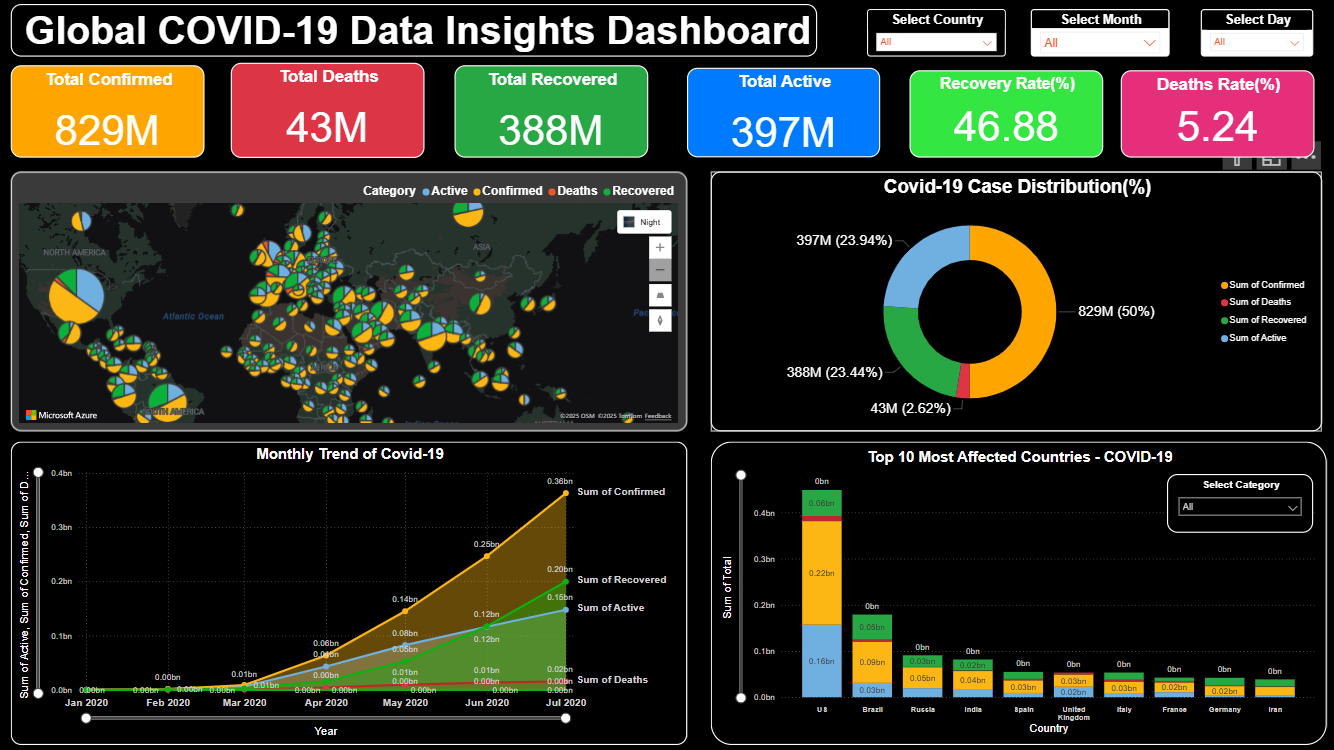

The page's visual inventory and layout, read from the dashboard file:
{"tool":"powerbi","page":{"name":"Page 1","canvas":[1920,1080],"ordinal":0},"visuals":[{"type":"slicer","title":"Select Country","fields":{"Values":["samarth_csv.Country/Region"]},"box":[1242.9,14.3,198.2,67.9],"z":0},{"type":"slicer","title":" Select Month","fields":{"Values":["samarth_csv.MonthNumber"]},"box":[1476.8,14.3,198.2,67.9],"z":1000},{"type":"cardVisual","title":" Total Confirmed","fields":{"Data":["Sum(samarth_csv.Confirmed)"]},"box":[19.6,94.6,276.8,132.1],"z":2000},{"type":"cardVisual","title":"Total Deaths","fields":{"Data":["Sum(samarth_csv.Deaths)"]},"box":[333.9,91.1,276.8,135.7],"z":3000},{"type":"cardVisual","title":"Total Active","fields":{"Data":["Sum(samarth_csv.Active)"]},"box":[985.7,98.2,276,128],"z":4000},{"type":"cardVisual","title":"Total Recovered","fields":{"Data":["Sum(samarth_csv.Recovered)"]},"box":[653.6,94.6,276.8,132.1],"z":5000},{"type":"donutChart","title":"Covid-19 Case Distribution(%)","fields":{"Y":["Sum(samarth_csv.Confirmed)","Sum(samarth_csv.Deaths)","Sum(samarth_csv.Recovered)","Sum(samarth_csv.Total Active)"]},"box":[1019.6,246.4,873.2,371.4],"z":6000},{"type":"slicer","title":" Select Day","fields":{"Values":["samarth_csv.Date.Variation.Date Hierarchy.Day"]},"box":[1719.7,14.3,160.7,67.9],"z":7000},{"type":"card","title":"Recovery Rate(%)","fields":{"Values":["samarth_csv.Recovery Rate (%)"]},"box":[1303.6,101.8,276.8,125],"z":8000},{"type":"card","title":"Deaths Rate(%)","fields":{"Values":["samarth_csv.Deaths Rate (%)"]},"box":[1605.4,101.8,276.8,125],"z":9000},{"type":"columnChart","title":"Top 10 Most Affected Countries - COVID-19","fields":{"Category":["Top10_All_Categories.Country"],"Series":["Top10_All_Categories.Category"],"Y":["Sum(Top10_All_Categories.Total)"]},"box":[1019.6,632.1,880.4,433.9],"z":10000},{"type":"slicer","title":"Select Category","fields":{"Values":["Top10_All_Categories.Category"]},"box":[1671.4,678.6,208.9,83.9],"z":11000},{"type":"lineChart","title":"Monthly Trend of Covid-19","fields":{"Y":["Sum(samarth_csv.Active)","Sum(samarth_csv.Confirmed)","Sum(samarth_csv.Deaths)","Sum(samarth_csv.Recovered)","samarth_csv.Deaths Rate (%)","samarth_csv.Recovery Rate (%)"],"Category":["samarth_csv.Date.Variation.Date Hierarchy.Year","samarth_csv.Date.Variation.Date Hierarchy.Month"]},"box":[19.6,632.1,966.1,433.9],"z":12000},{"type":"azureMap","fields":{"Category":["Covid_Unpivot.Country"],"Size":["Sum(Covid_Unpivot.Total Cases)"],"Series":["Covid_Unpivot.Category"]},"box":[19.6,246.4,966.1,371.4],"z":13000},{"type":"textbox","title":"Global COVID-19 Data Insights Dashboard","box":[19.6,7.1,1151.8,75],"z":14000}]}

Visuals, with their boxes in screenshot pixels (x1, y1, x2, y2), scaled from the page's 1920x1080 canvas onto the 1334x750 screenshot:
"Select Country" slicer: [x1=864, y1=10, x2=1001, y2=57]
" Select Month" slicer: [x1=1026, y1=10, x2=1164, y2=57]
" Total Confirmed" cardVisual: [x1=14, y1=66, x2=206, y2=157]
"Total Deaths" cardVisual: [x1=232, y1=63, x2=424, y2=157]
"Total Active" cardVisual: [x1=685, y1=68, x2=877, y2=157]
"Total Recovered" cardVisual: [x1=454, y1=66, x2=646, y2=157]
"Covid-19 Case Distribution(%)" donutChart: [x1=708, y1=171, x2=1315, y2=429]
" Select Day" slicer: [x1=1195, y1=10, x2=1306, y2=57]
"Recovery Rate(%)" card: [x1=906, y1=71, x2=1098, y2=158]
"Deaths Rate(%)" card: [x1=1115, y1=71, x2=1308, y2=158]
"Top 10 Most Affected Countries - COVID-19" columnChart: [x1=708, y1=439, x2=1320, y2=740]
"Select Category" slicer: [x1=1161, y1=471, x2=1306, y2=530]
"Monthly Trend of Covid-19" lineChart: [x1=14, y1=439, x2=685, y2=740]
azureMap - Covid_Unpivot.Country x Sum(Covid_Unpivot.Total Cases): [x1=14, y1=171, x2=685, y2=429]
"Global COVID-19 Data Insights Dashboard" textbox: [x1=14, y1=5, x2=814, y2=57]
